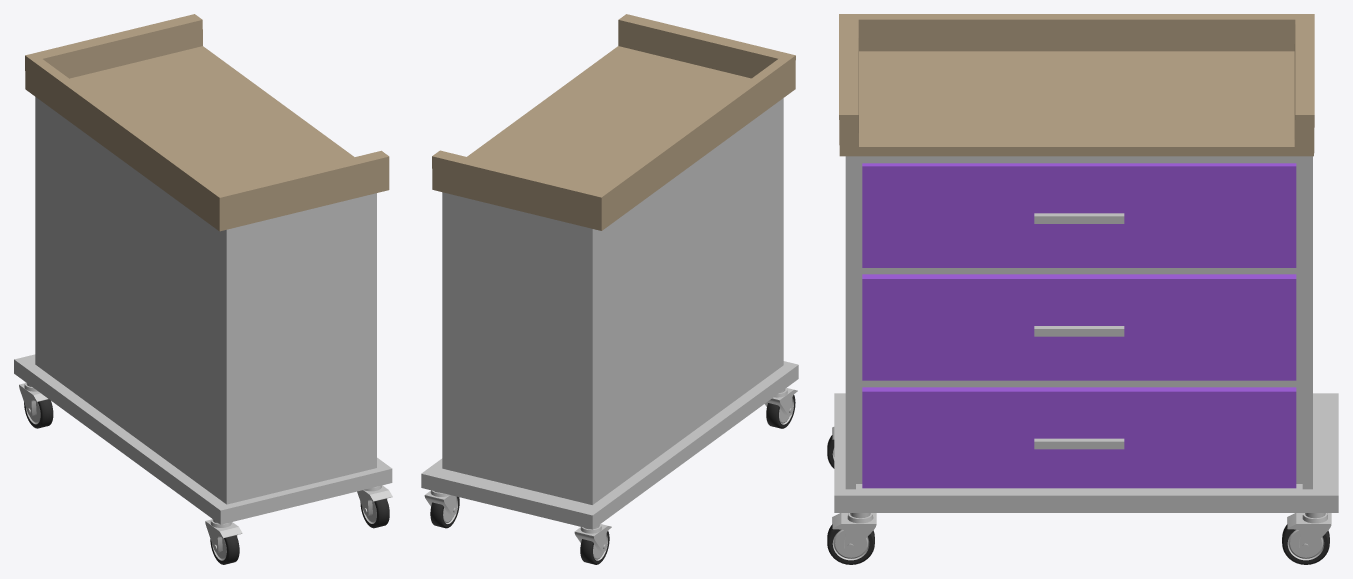
Rendered from Calaixera.fbx.
The picture shows the model from 3 angles, left to right: view 1: azimuth 30°, elevation 25°; view 2: azimuth 150°, elevation 25°; view 3: azimuth 270°, elevation 25°; orthographic projection. The views are drawn at different scales.
Visible parts, largest first — view 1: Cube; view 2: Cube; view 3: Cube.
Boxes of the visible parts, x1=… form: Cube: x1=14, y1=14, x2=392, y2=564; Cube: x1=421, y1=14, x2=798, y2=564; Cube: x1=827, y1=14, x2=1338, y2=564.
Bounding box in the file's own units: 41.11 × 86.55 × 84.48.
